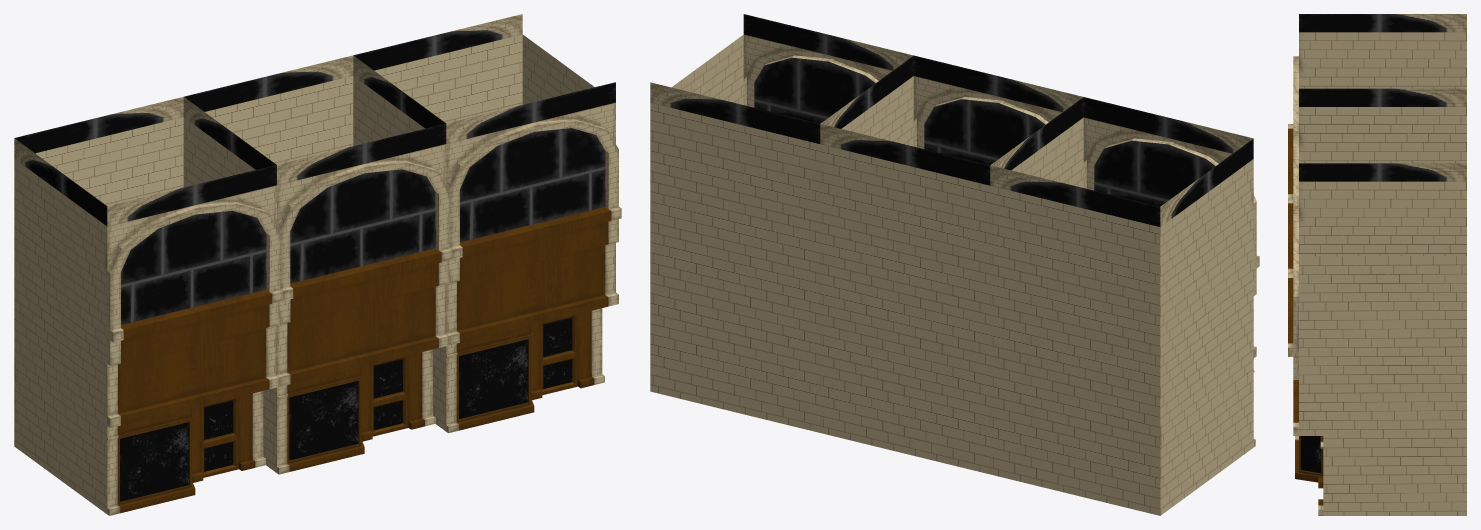
Rendered from building.fbx.
3 views of the same model, side by side, from view 1: azimuth 30°, elevation 25°; view 2: azimuth 150°, elevation 25°; view 3: azimuth 270°, elevation 25° (orthographic). The views are drawn at different scales.
Parts seen in each view (by area): view 1: polySurface6950, polySurface6957, polySurface6964, polySurface6967, polySurface6953, polySurface6960, polySurface6961, polySurface6954, polySurface6968, polySurface6956, polySurface6949, polySurface6963 (+6 smaller); view 2: polySurface6950, polySurface6957, polySurface6964, polySurface6961, polySurface6968, polySurface6954, polySurface6967, polySurface6953, polySurface6960, polySurface6952, polySurface6959, polySurface6966; view 3: polySurface6964, polySurface6957, polySurface6950, polySurface6952, polySurface6959, polySurface6966, polySurface6965, polySurface6962.
Boxes of the visible parts, bbox=[...] form: polySurface6950: bbox=[14, 117, 282, 515]; polySurface6957: bbox=[205, 76, 452, 474]; polySurface6964: bbox=[374, 34, 621, 433]; polySurface6967: bbox=[446, 82, 615, 143]; polySurface6953: bbox=[107, 165, 276, 226]; polySurface6960: bbox=[277, 123, 446, 184]; polySurface6961: bbox=[184, 55, 353, 111]; polySurface6954: bbox=[14, 97, 183, 153]; polySurface6968: bbox=[353, 14, 522, 70]; polySurface6956: bbox=[370, 355, 408, 436]; polySurface6949: bbox=[200, 397, 238, 477]; polySurface6963: bbox=[539, 314, 577, 395]; polySurface6950: bbox=[990, 117, 1259, 515]; polySurface6957: bbox=[820, 76, 1062, 474]; polySurface6964: bbox=[650, 34, 892, 432]; polySurface6961: bbox=[820, 124, 990, 185]; polySurface6968: bbox=[650, 82, 820, 143]; polySurface6954: bbox=[990, 165, 1160, 226]; polySurface6967: bbox=[743, 14, 913, 70]; polySurface6953: bbox=[1083, 97, 1253, 153]; polySurface6960: bbox=[913, 55, 1082, 112]; polySurface6952: bbox=[1160, 138, 1253, 226]; polySurface6959: bbox=[991, 97, 1083, 170]; polySurface6966: bbox=[820, 56, 913, 128]; polySurface6964: bbox=[1288, 181, 1466, 515]; polySurface6957: bbox=[1288, 107, 1466, 273]; polySurface6950: bbox=[1288, 32, 1466, 198]; polySurface6952: bbox=[1299, 14, 1466, 32]; polySurface6959: bbox=[1299, 88, 1466, 106]; polySurface6966: bbox=[1299, 163, 1466, 181]; polySurface6965: bbox=[1295, 436, 1323, 482]; polySurface6962: bbox=[1318, 436, 1323, 515].
Size of the model in its own units: 1200 by 695 by 405.
